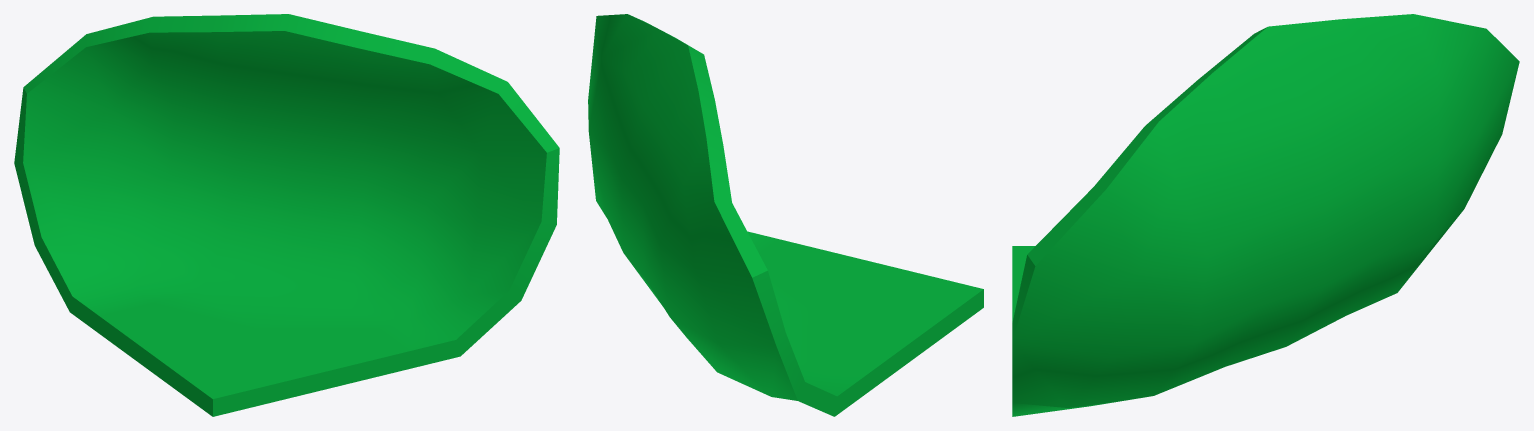
File: basic_concave_halfcorner.gltf
3 renders of one model, left to right at view 1: azimuth 30°, elevation 25°; view 2: azimuth 150°, elevation 25°; view 3: azimuth 270°, elevation 25°, orthographic. The views are drawn at different scales.
Parts seen in each view (by area): view 1: basic_concave_halfcorner_glb; view 2: basic_concave_halfcorner_glb; view 3: basic_concave_halfcorner_glb.
Part boxes in pixels (x1,y1,x2,y2): basic_concave_halfcorner_glb: [14, 14, 559, 416]; basic_concave_halfcorner_glb: [588, 14, 983, 416]; basic_concave_halfcorner_glb: [1012, 14, 1519, 416].
Size of what is drawn, in the model's own units: 5.1 by 3.87 by 5.1.
Materials: 1 (1 with a texture image).
